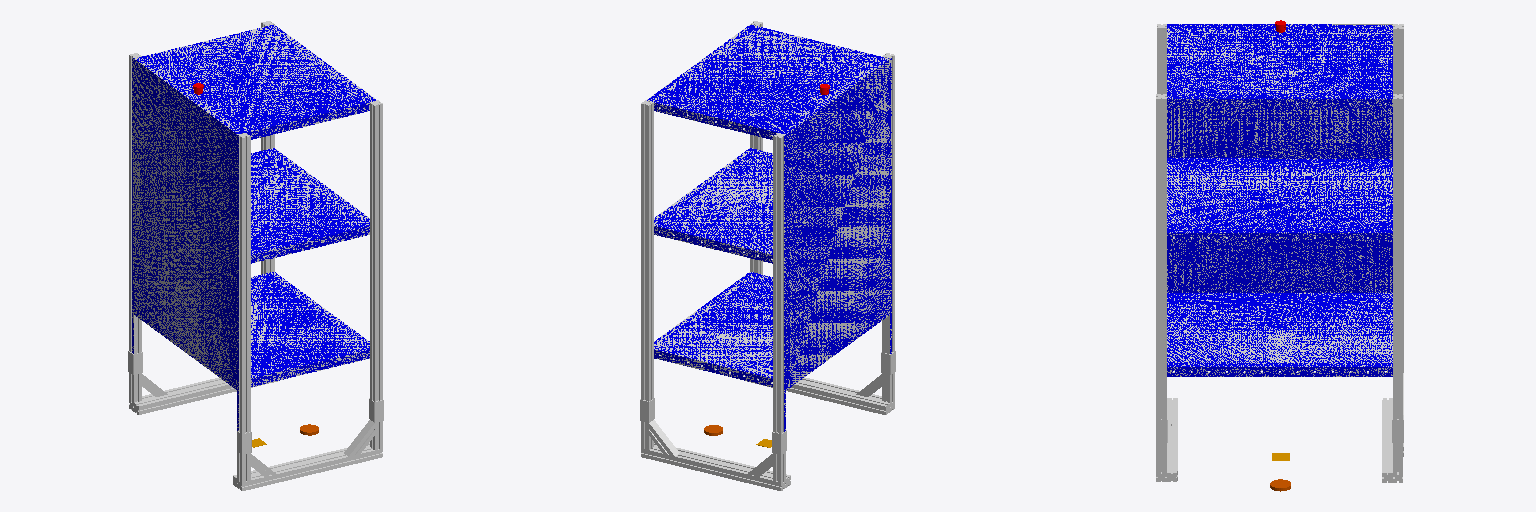
The robot description file, URDF, robot "WPV3":
<?xml version="1.0"?>
<robot name="WPV3">

  <!-- material -->
  <material name = "black">
    <color rgba = "0.01 0.01 0.01 1"/>
  </material>
  <material name = "grey">
    <color rgba = "0.2 0.2 0.2 1"/>
  </material>
  <material name = "blue">
    <color rgba = "0.2 0.2 0.9 1"/>
  </material>


<link name="base_footprint">
    <visual>
      <origin xyz="0 0 0" rpy="0 0 0" />
      <geometry>
        <box size="0.05 0.05 0.001" />
      </geometry>
      <material name="TransparentGreen" />
    </visual>
    <collision>
      <origin xyz="0 0 .1" rpy="0 0 0" />
      <geometry>
        <box size="0.76 0.5 .2"/>
      </geometry>
    </collision>
    <inertial>
    <mass value="10"/>
    <inertia ixx="0.4" ixy="0.0" ixz="0.0" iyy="0.4" iyz="0.0" izz="0.2"/>
    </inertial>
</link>

<joint name="base_joint" type="fixed">
  <origin xyz="0 0 0" rpy="0 0 0" />
  <parent link="base_footprint"/>
  <child link="base_link" />
</joint>

  <!-- base -->
  <link name="base_link">
  <visual>
   <geometry>
    <mesh filename="package://wpv3_bringup/meshes/wpv3.dae" scale="1 1 1"/>
   </geometry>
   <origin rpy = "1.57 0 -1.57" xyz = "0.22 .293 0"/>
  </visual>
  </link>

  <!-- mobile_rack -->
  <link name = "mobile_rack">
    <visual>
    <geometry>
      <mesh filename="package://wpv3_bringup/meshes/mobile_rack.dae" scale="1 1 1"/>
    </geometry>
    <origin rpy = "0 0 0" xyz = "0 0 0"/>
    
    </visual>
  </link>
  <joint name="base_rack" type="fixed">
      <origin rpy="0 0 3.14" xyz="0 0 0.02"  /> <!--pos-->
      <parent link="base_link" />
      <child link="mobile_rack" />
  </joint>

  <!-- kinect2 model -->
  <link name = "kinect2">
    <visual>
    <geometry>
      <mesh filename="package://wpv3_bringup/meshes/kinect2.dae" scale="1 1 1"/>
    </geometry>
    <origin rpy = "0 0 0" xyz = "0 0 0"/>
    
    </visual>
  </link>
  <joint name="rack_kinect2" type="fixed">
      <origin rpy="0 0 0" xyz="-0.2 0 1.22"  /> <!--pos-->
      <parent link="mobile_rack" />
      <child link="kinect2" />
  </joint>

  <!-- es buttom -->
  <link name = "emergency_stop">
    <visual>
    <geometry>
      <mesh filename="package://wpv3_bringup/meshes/emergency_stop.dae" scale="1 1 1"/>
    </geometry>
    <origin rpy = "0 0 0" xyz = "0 0 0"/>
    
    </visual>
  </link>
  <joint name="rack_es" type="fixed">
      <origin rpy="0 0 0" xyz="0.2 0 1.22"  /> <!--pos-->
      <parent link="mobile_rack" />
      <child link="emergency_stop" />
  </joint>

  <!-- *****************-->
  <!-- Lidar -->
  <link name = "laser">
    <visual>
    <geometry>
      <cylinder length="0.01" radius="0.03"/>
    </geometry>
    <origin rpy = "0 0 0" xyz = "0 0 0"/>
    </visual>
  </link>
  <joint name="laser_joint" type="fixed">
      <origin rpy="0 0 0" xyz="0.19 0 0"  /> <!--pos-->
      <parent link="base_link" />
      <child link="laser" />
  </joint>

  <!-- Kinect -->
<link name = "kinect2_dock">
  <visual>
   <geometry>
    <!-- <box size=".01 .25 .07"/>-->
    <box size="0 0 0"/>
   </geometry>
   <origin rpy = "0 0 0" xyz = "0 0 0"/>
   <material name = "red"/>
  </visual>
</link>
<joint name="kinect_height" type="prismatic">
    <parent link="base_link"/>
    <child link="kinect2_dock"/>
    <limit effort="1000.0" lower="0" upper="1.35" velocity="0.5"/>
    <origin xyz="0.174 0 0" rpy="0 -1.5707963 0"/>
  </joint>

<link name = "kinect2_ir_optical_frame">
  <visual>
   <geometry>
    <!-- <box size=".25 .04 .07"/>-->
    <box size="0 0 0"/>
   </geometry>
   <origin xyz = "0 0 0" rpy = "0 0 0"/>
   <material name = "blue"/>
  </visual>
</link>

<joint name="kinect_pitch" type="revolute">
    <axis xyz="1 0 0"/>
    <limit effort="1000.0" lower="-1.57" upper="1.57" velocity="0.5"/>
    <origin xyz="0 0 0" rpy="3.1415926 0 -1.5707963" /> <!--pos-->
    <parent link="kinect2_dock" />
    <child link="kinect2_ir_optical_frame" />
</joint>

<link name = "kinect2_rgb_optical_frame">
  <visual>
   <geometry>
    <box size="0 0 0"/>
   </geometry>
   <origin rpy = "0 0 0" xyz = "0 0 0"/>
   <material name = "blue"/>
  </visual>
</link>
<joint name="kinect_hd_joint" type="fixed">
    <origin xyz="0 0 0" rpy="0 0 0" /> <!--pos-->
    <parent link="kinect2_ir_optical_frame" />
    <child link="kinect2_rgb_optical_frame" />
</joint>

  
</robot>

--- Facts derived from the render (not from the file) ---
Views: 3 orthographic renders of the robot side by side, from view 1: azimuth 30°, elevation 25°; view 2: azimuth 150°, elevation 25°; view 3: azimuth 270°, elevation 25°.
Robot: WPV3 — 9 links, 8 joints (1 revolute, 1 prismatic, 6 fixed); root link base_footprint; default pose: every joint at zero.
Links seen in each view (by area): view 1: mobile_rack; view 2: mobile_rack; view 3: mobile_rack.
Link boxes in pixels (left/top/right/bottom): mobile_rack: left=128, top=21, right=383, bottom=490; mobile_rack: left=640, top=21, right=895, bottom=490; mobile_rack: left=1156, top=24, right=1403, bottom=482.
Bounding box of the posed robot: 0.5051 × 0.7048 × 1.27 m (x, y, z).
Meshes: 4 distinct files referenced, 2 mesh visuals loaded (2 Collada DAE); not drawn: 1 (reference not matched to a file when rendering), 1 (file found but could not be loaded).